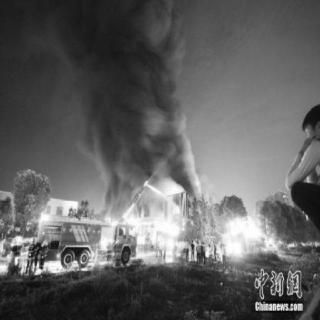Smoke: (60, 3, 188, 163)
